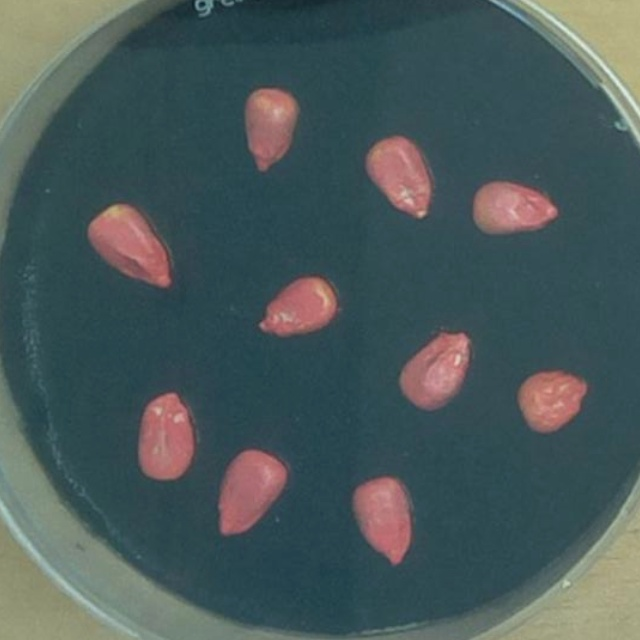Zea mays: (77, 196, 182, 297), (207, 439, 297, 546), (391, 321, 480, 419), (341, 469, 421, 578), (354, 127, 437, 227), (128, 382, 203, 492), (233, 78, 306, 182), (250, 268, 345, 347), (462, 173, 566, 245), (510, 363, 596, 445)
